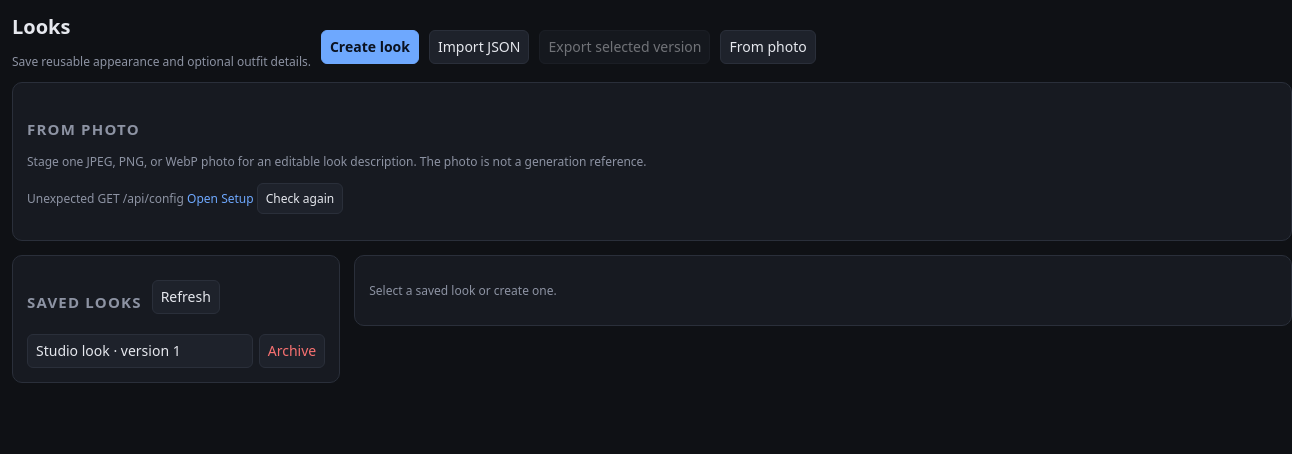
Test: Looks manual editor › keeps a look in the library and reports an archive failure
Click the button "Archive" at (292, 351), box x1=259 y1=334 x2=325 y2=368
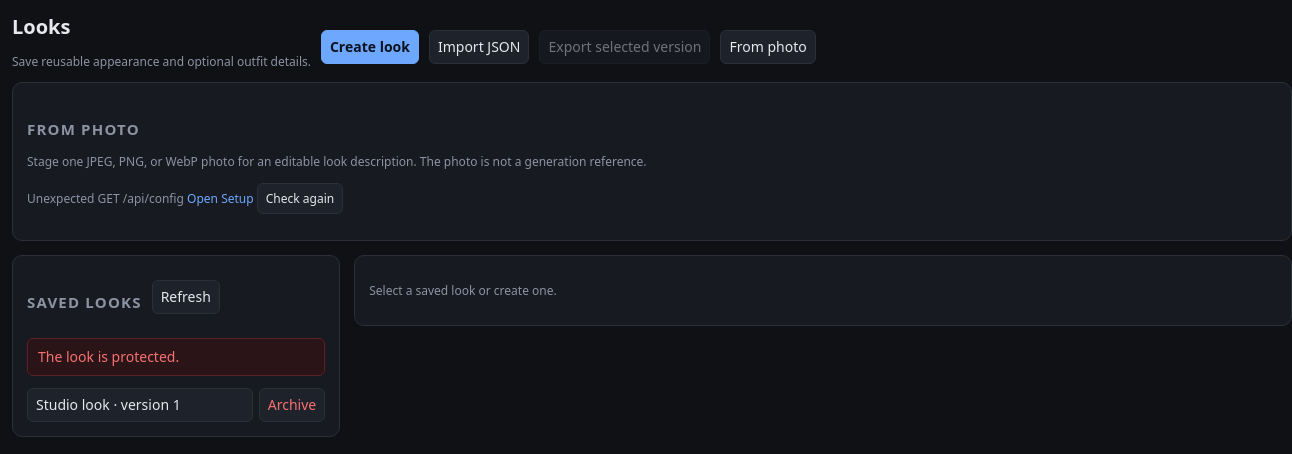
Expected: the button "Studio look · version 1" is shown, x1=27 y1=388 x2=253 y2=422
Now the message "The look is protected." is shown, box x1=27 y1=338 x2=325 y2=376
